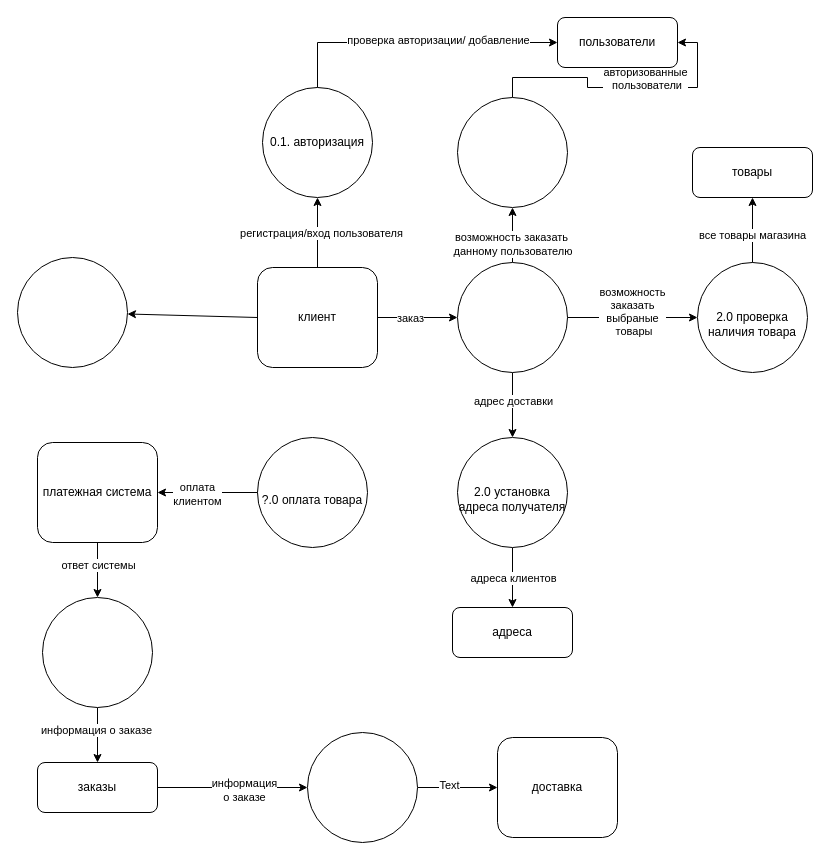
This 830x860 diagram has some shape labels left out. The shapes that lost their labels are listed below. From the top down, each one's centre as x and y in pixels, then its label:
point (512, 152): 2.0 проверка авторизации пользователя
point (72, 312): 0.2. добавление в корзину
point (512, 317): 0.3 оформление закза
point (97, 652): ?+1.0 сохранение заказа
point (362, 787): передача в доставку
